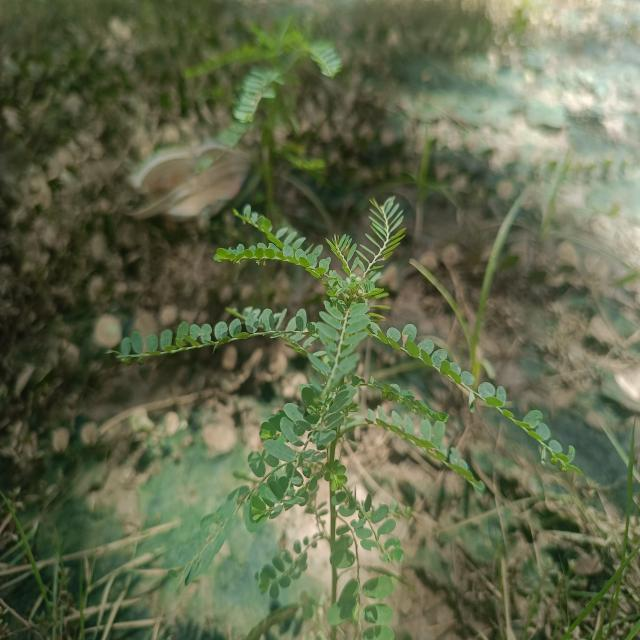weed: (122, 186, 583, 634)
